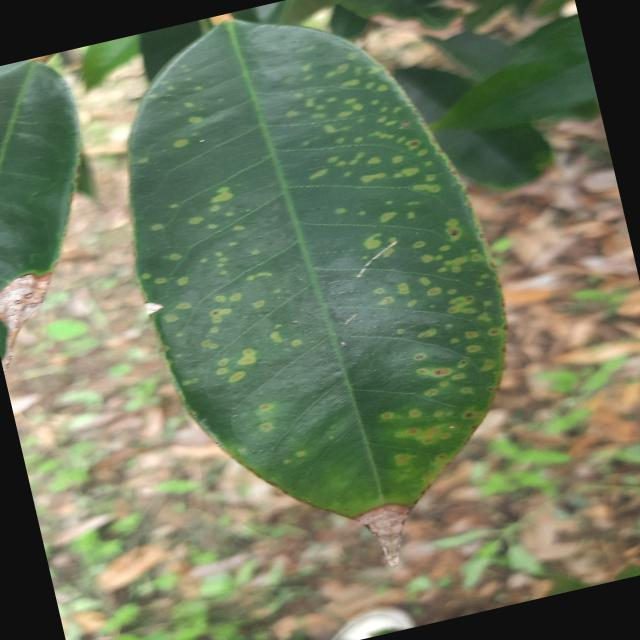Leaf Spot: (71, 0, 559, 598)
